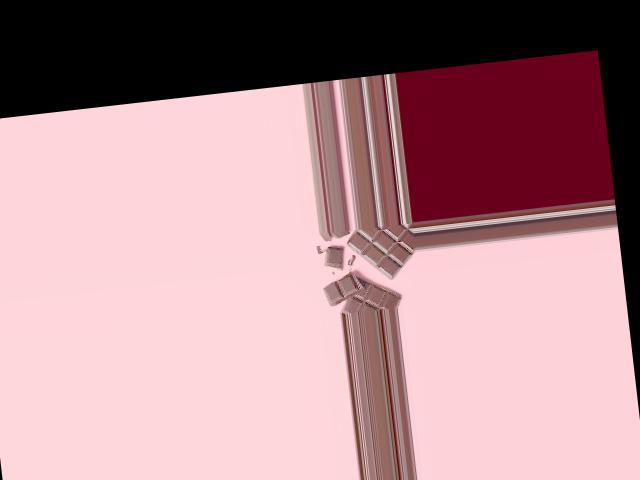chocolate: (322, 223, 422, 310)
